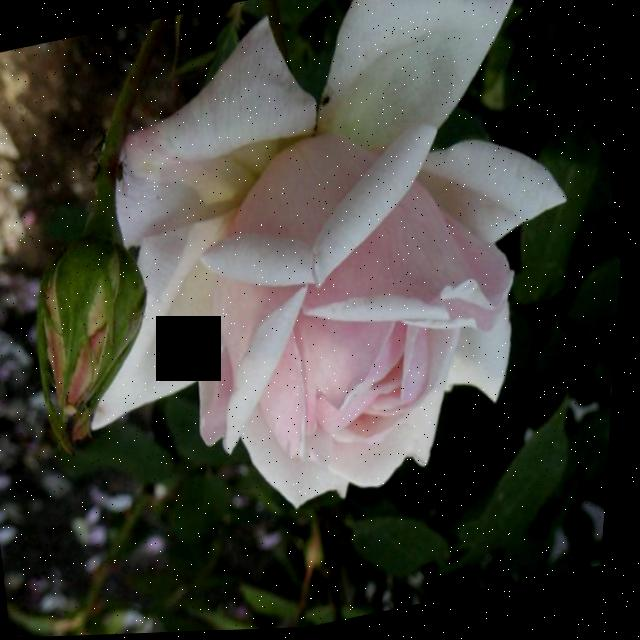rose: (0, 0, 628, 594)
